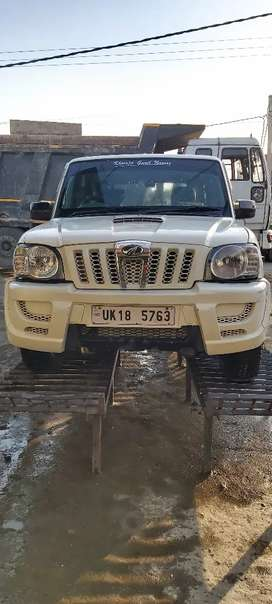UK185763: (92, 306, 175, 326)
